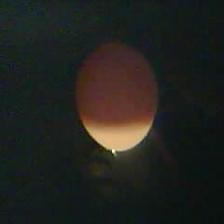fertile: (74, 41, 158, 153)
